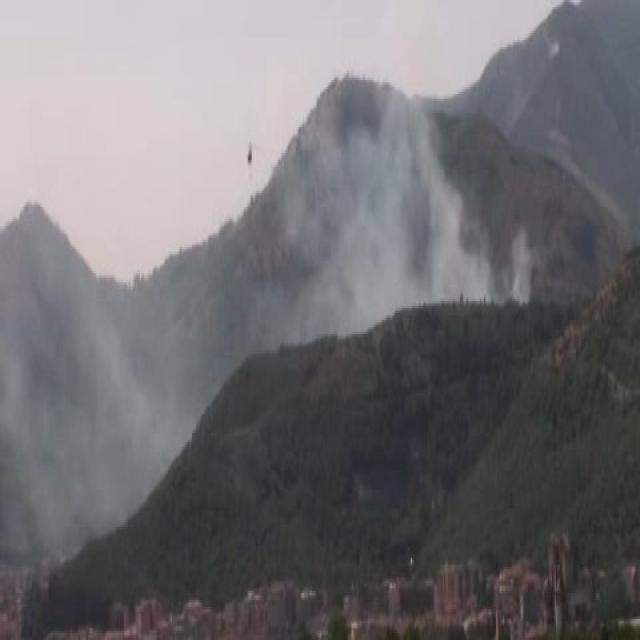smoke: (274, 132, 540, 323), (14, 276, 183, 504)
